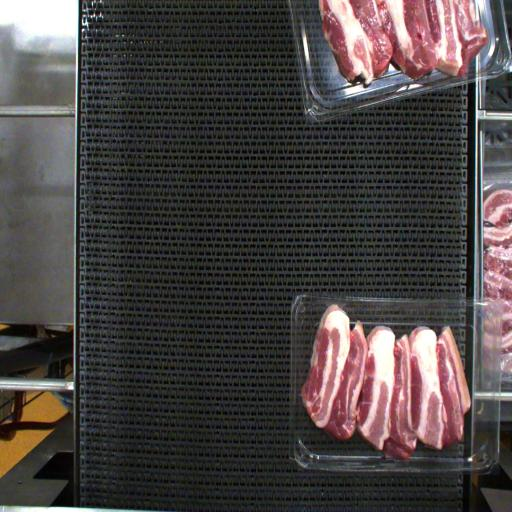packaging-error: (324, 296, 347, 313)
